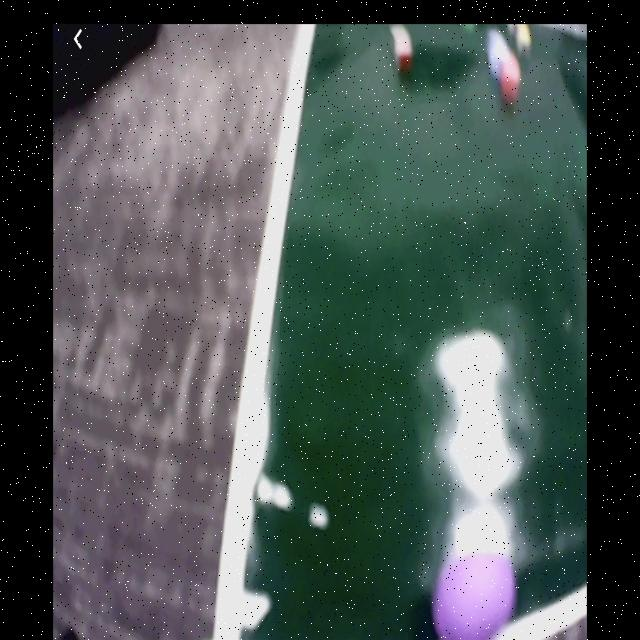ball: (435, 554, 515, 640)
